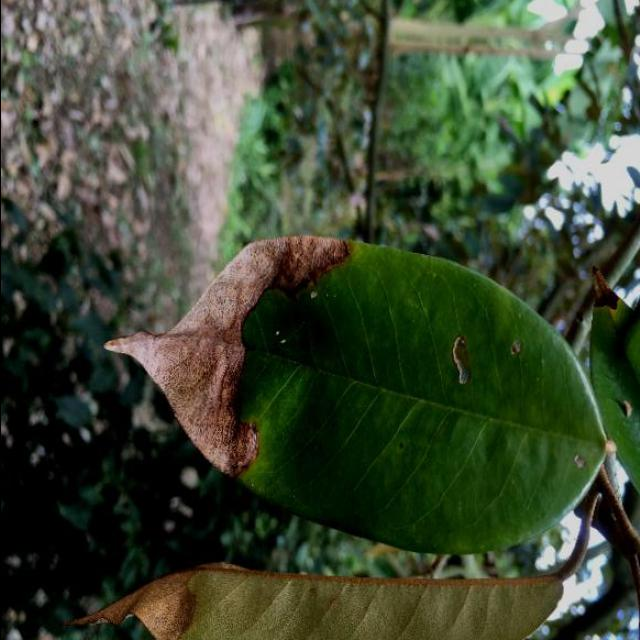Leaf Blight: (91, 225, 630, 569)
